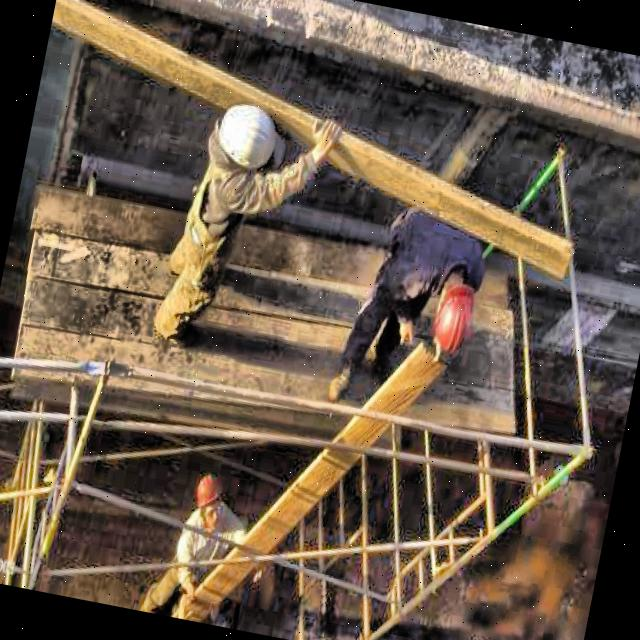helmet: (202, 92, 288, 194), (422, 266, 484, 364), (187, 472, 231, 534)
